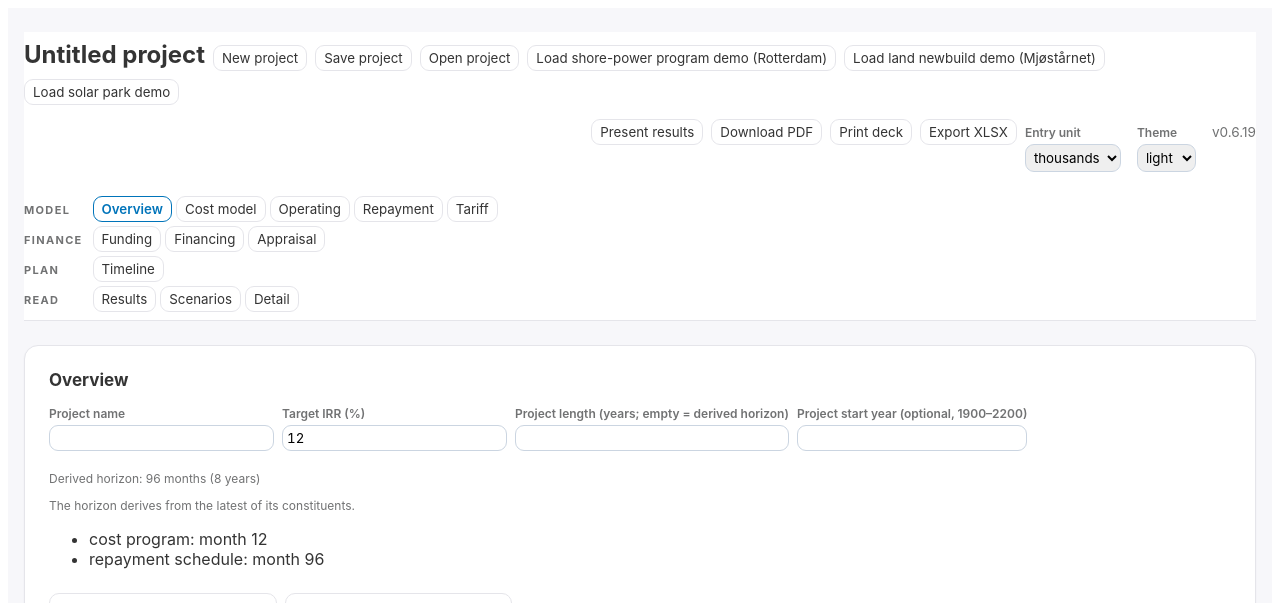
Test case: v0.6.18 Task G: what gets what space › NOTES: the calendar notes still read year and month, now without a leading gap
The width and height of the screenshot is (1280, 603).
Click the button "Load land newbuild demo (Mjøstårnet)" at (974, 58), box [844,45,1105,71]
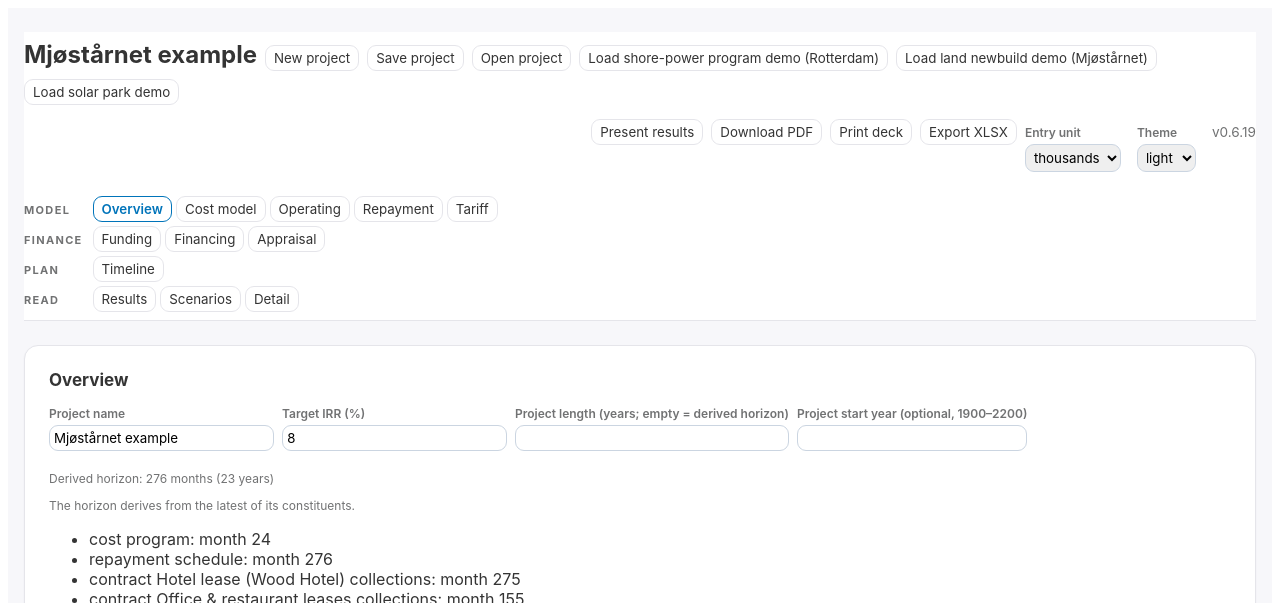
Click the button "Timeline" at (128, 269), box [92,256,164,282]
(page scrolled)
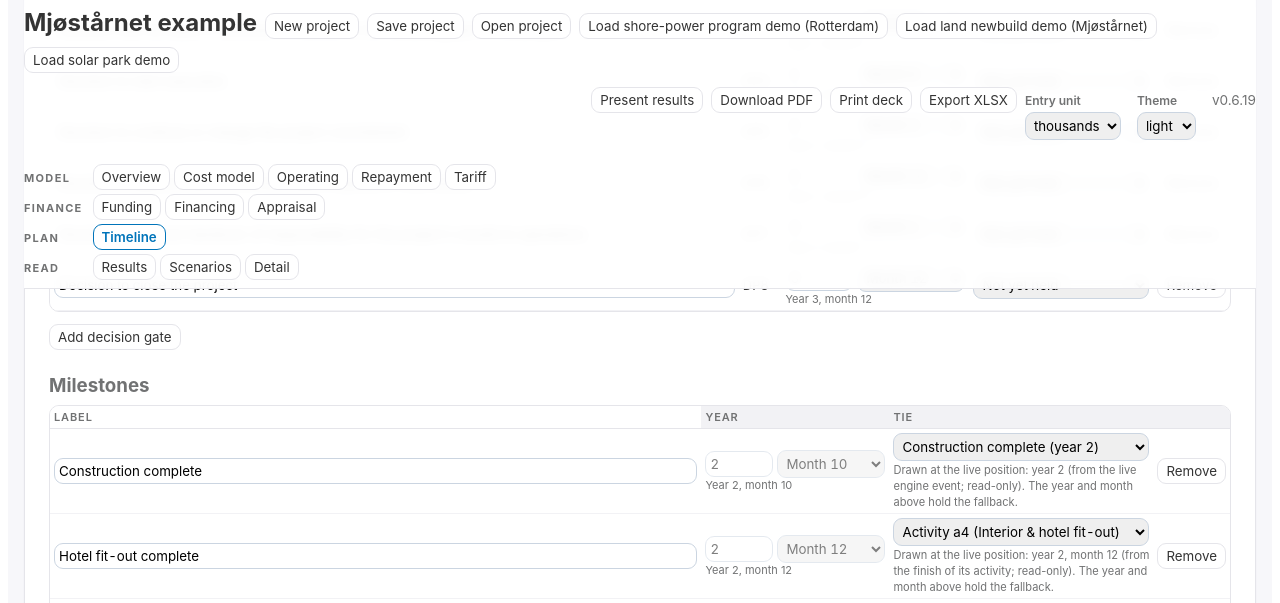
Expected: the text "Year 2, month 10" is shown, [705,478,792,492]
